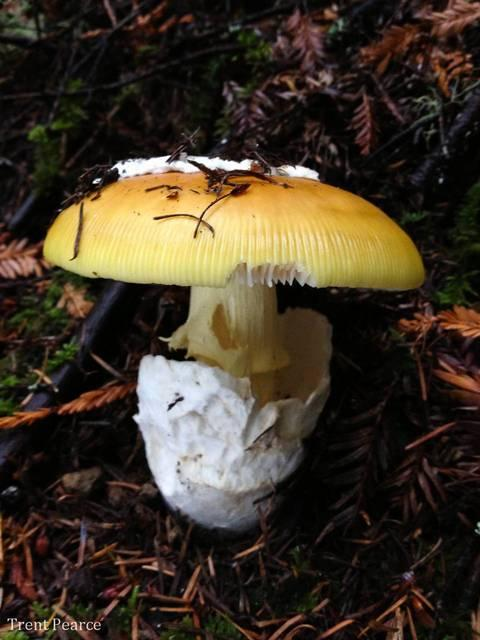edible_mushroom: (41, 152, 426, 536)
